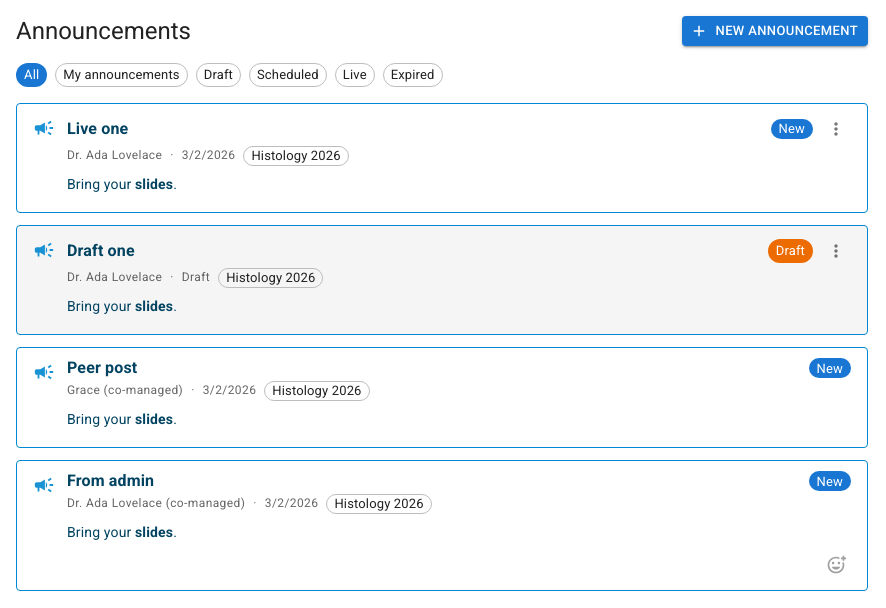
Test: AnnouncementsPage › authors get one stream: inbox plus own drafts, filtered by status or My announcements
Expected: the heading "Live one" is shown, left=67, top=119, right=128, bottom=138
Expected: the heading "From admin" is shown, left=67, top=471, right=154, bottom=490
Step 1. Click the button "Draft" → (218, 75), box left=196, top=63, right=241, bottom=87
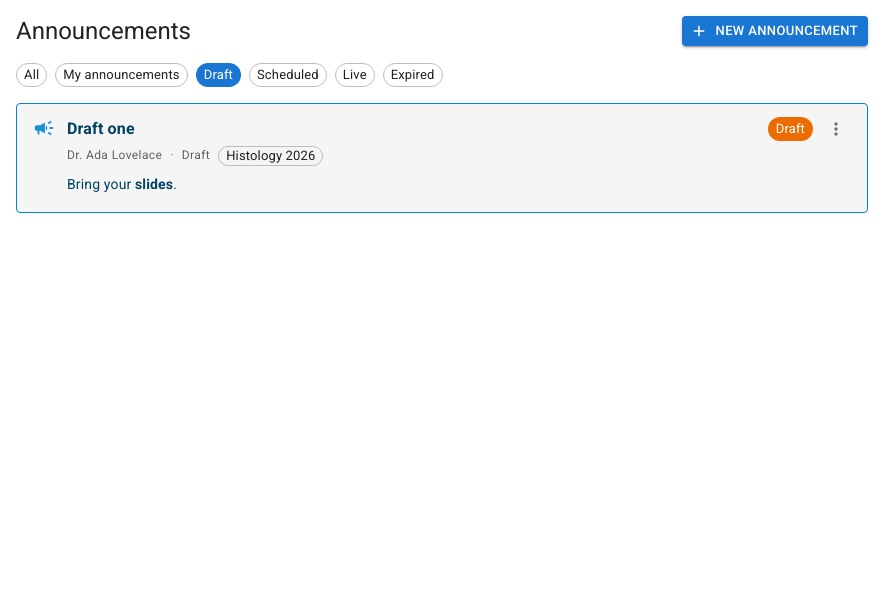
Expected: the heading "Draft one" is shown, left=67, top=119, right=135, bottom=138
Now the heading "Live one" is gone
Step 2. Click the button "My announcements" → (122, 75), box left=55, top=63, right=188, bottom=87
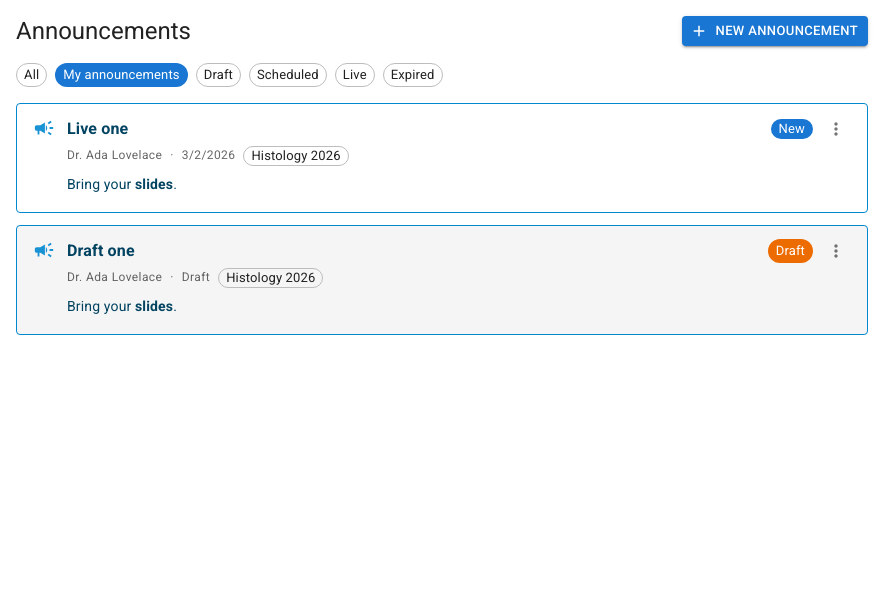
Expected: the heading "Draft one" is shown, left=67, top=241, right=135, bottom=260
Now the heading "Live one" is shown, box left=67, top=119, right=128, bottom=138
Step 3. Click the button "Expired" → (413, 75), box left=383, top=63, right=443, bottom=87
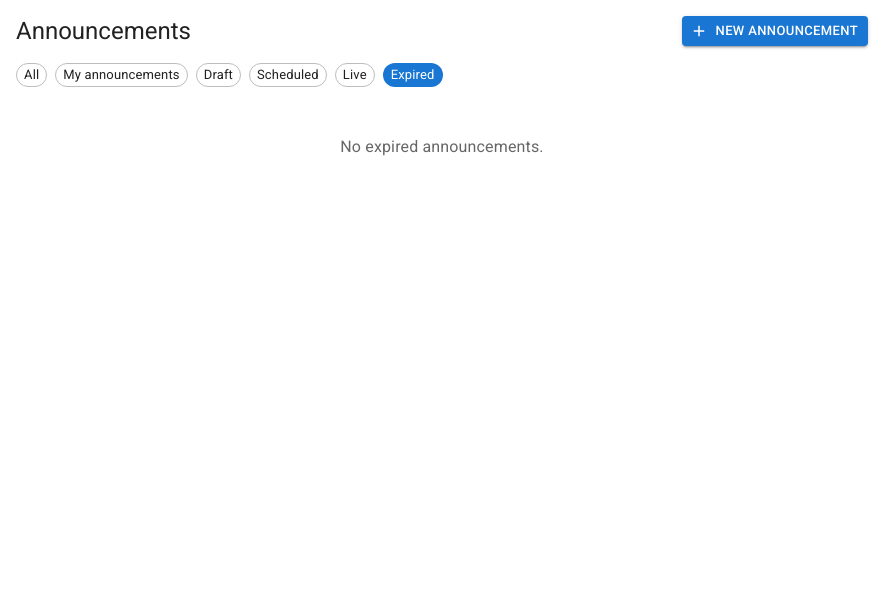
Now the text "No expired announcements." is shown, box left=340, top=137, right=544, bottom=156
